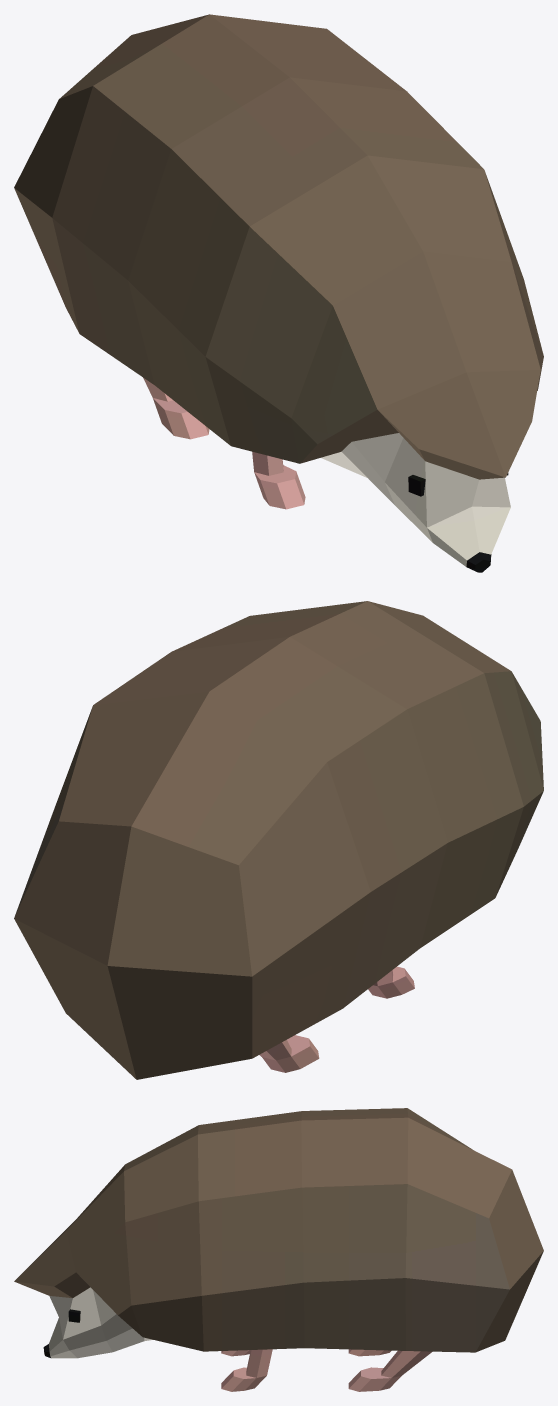
File: 8UNni5IvK_c.glb
The picture shows the model from 3 angles, top to bottom: view 1: azimuth 30°, elevation 25°; view 2: azimuth 150°, elevation 25°; view 3: azimuth 270°, elevation 25°; orthographic projection. The views are drawn at different scales.
Parts seen in each view (by area): view 1: Geo_Hedgehog; view 2: Geo_Hedgehog; view 3: Geo_Hedgehog.
Part boxes in pixels (left/top/right/bottom): Geo_Hedgehog: left=14, top=14, right=543, bottom=572; Geo_Hedgehog: left=14, top=601, right=543, bottom=1079; Geo_Hedgehog: left=14, top=1108, right=543, bottom=1391.
Bounding box in the file's own units: 0.8884 × 1 × 1.92.
1 material, 1 textured.
